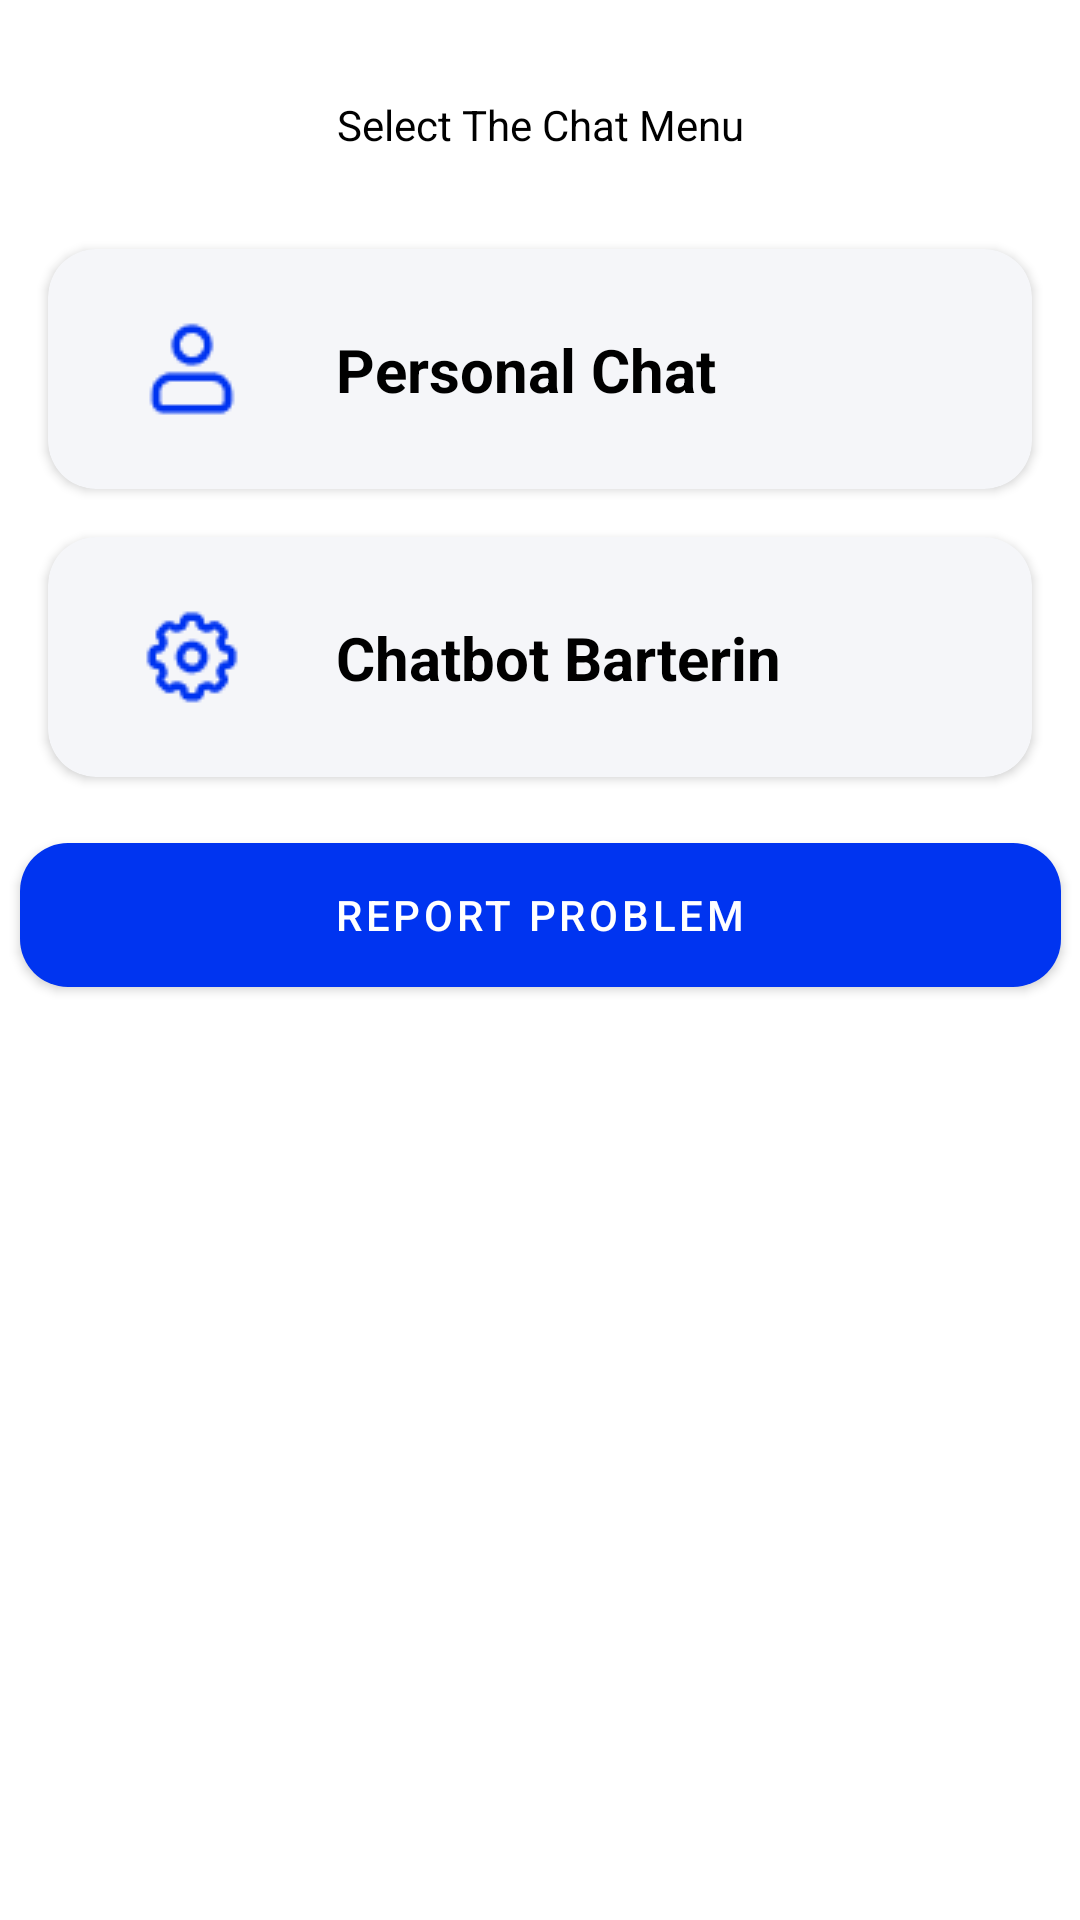

Point at icon controls on the screen. Image size 1080px x 1920px, points as [x,y].
profile: [192,369]
settings: [192,657]
